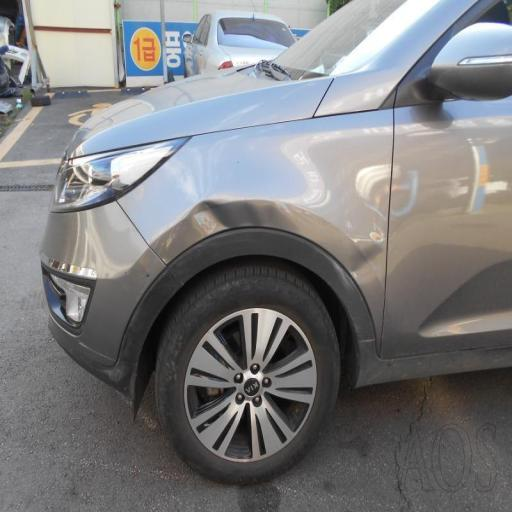dent: (136, 140, 256, 252)
